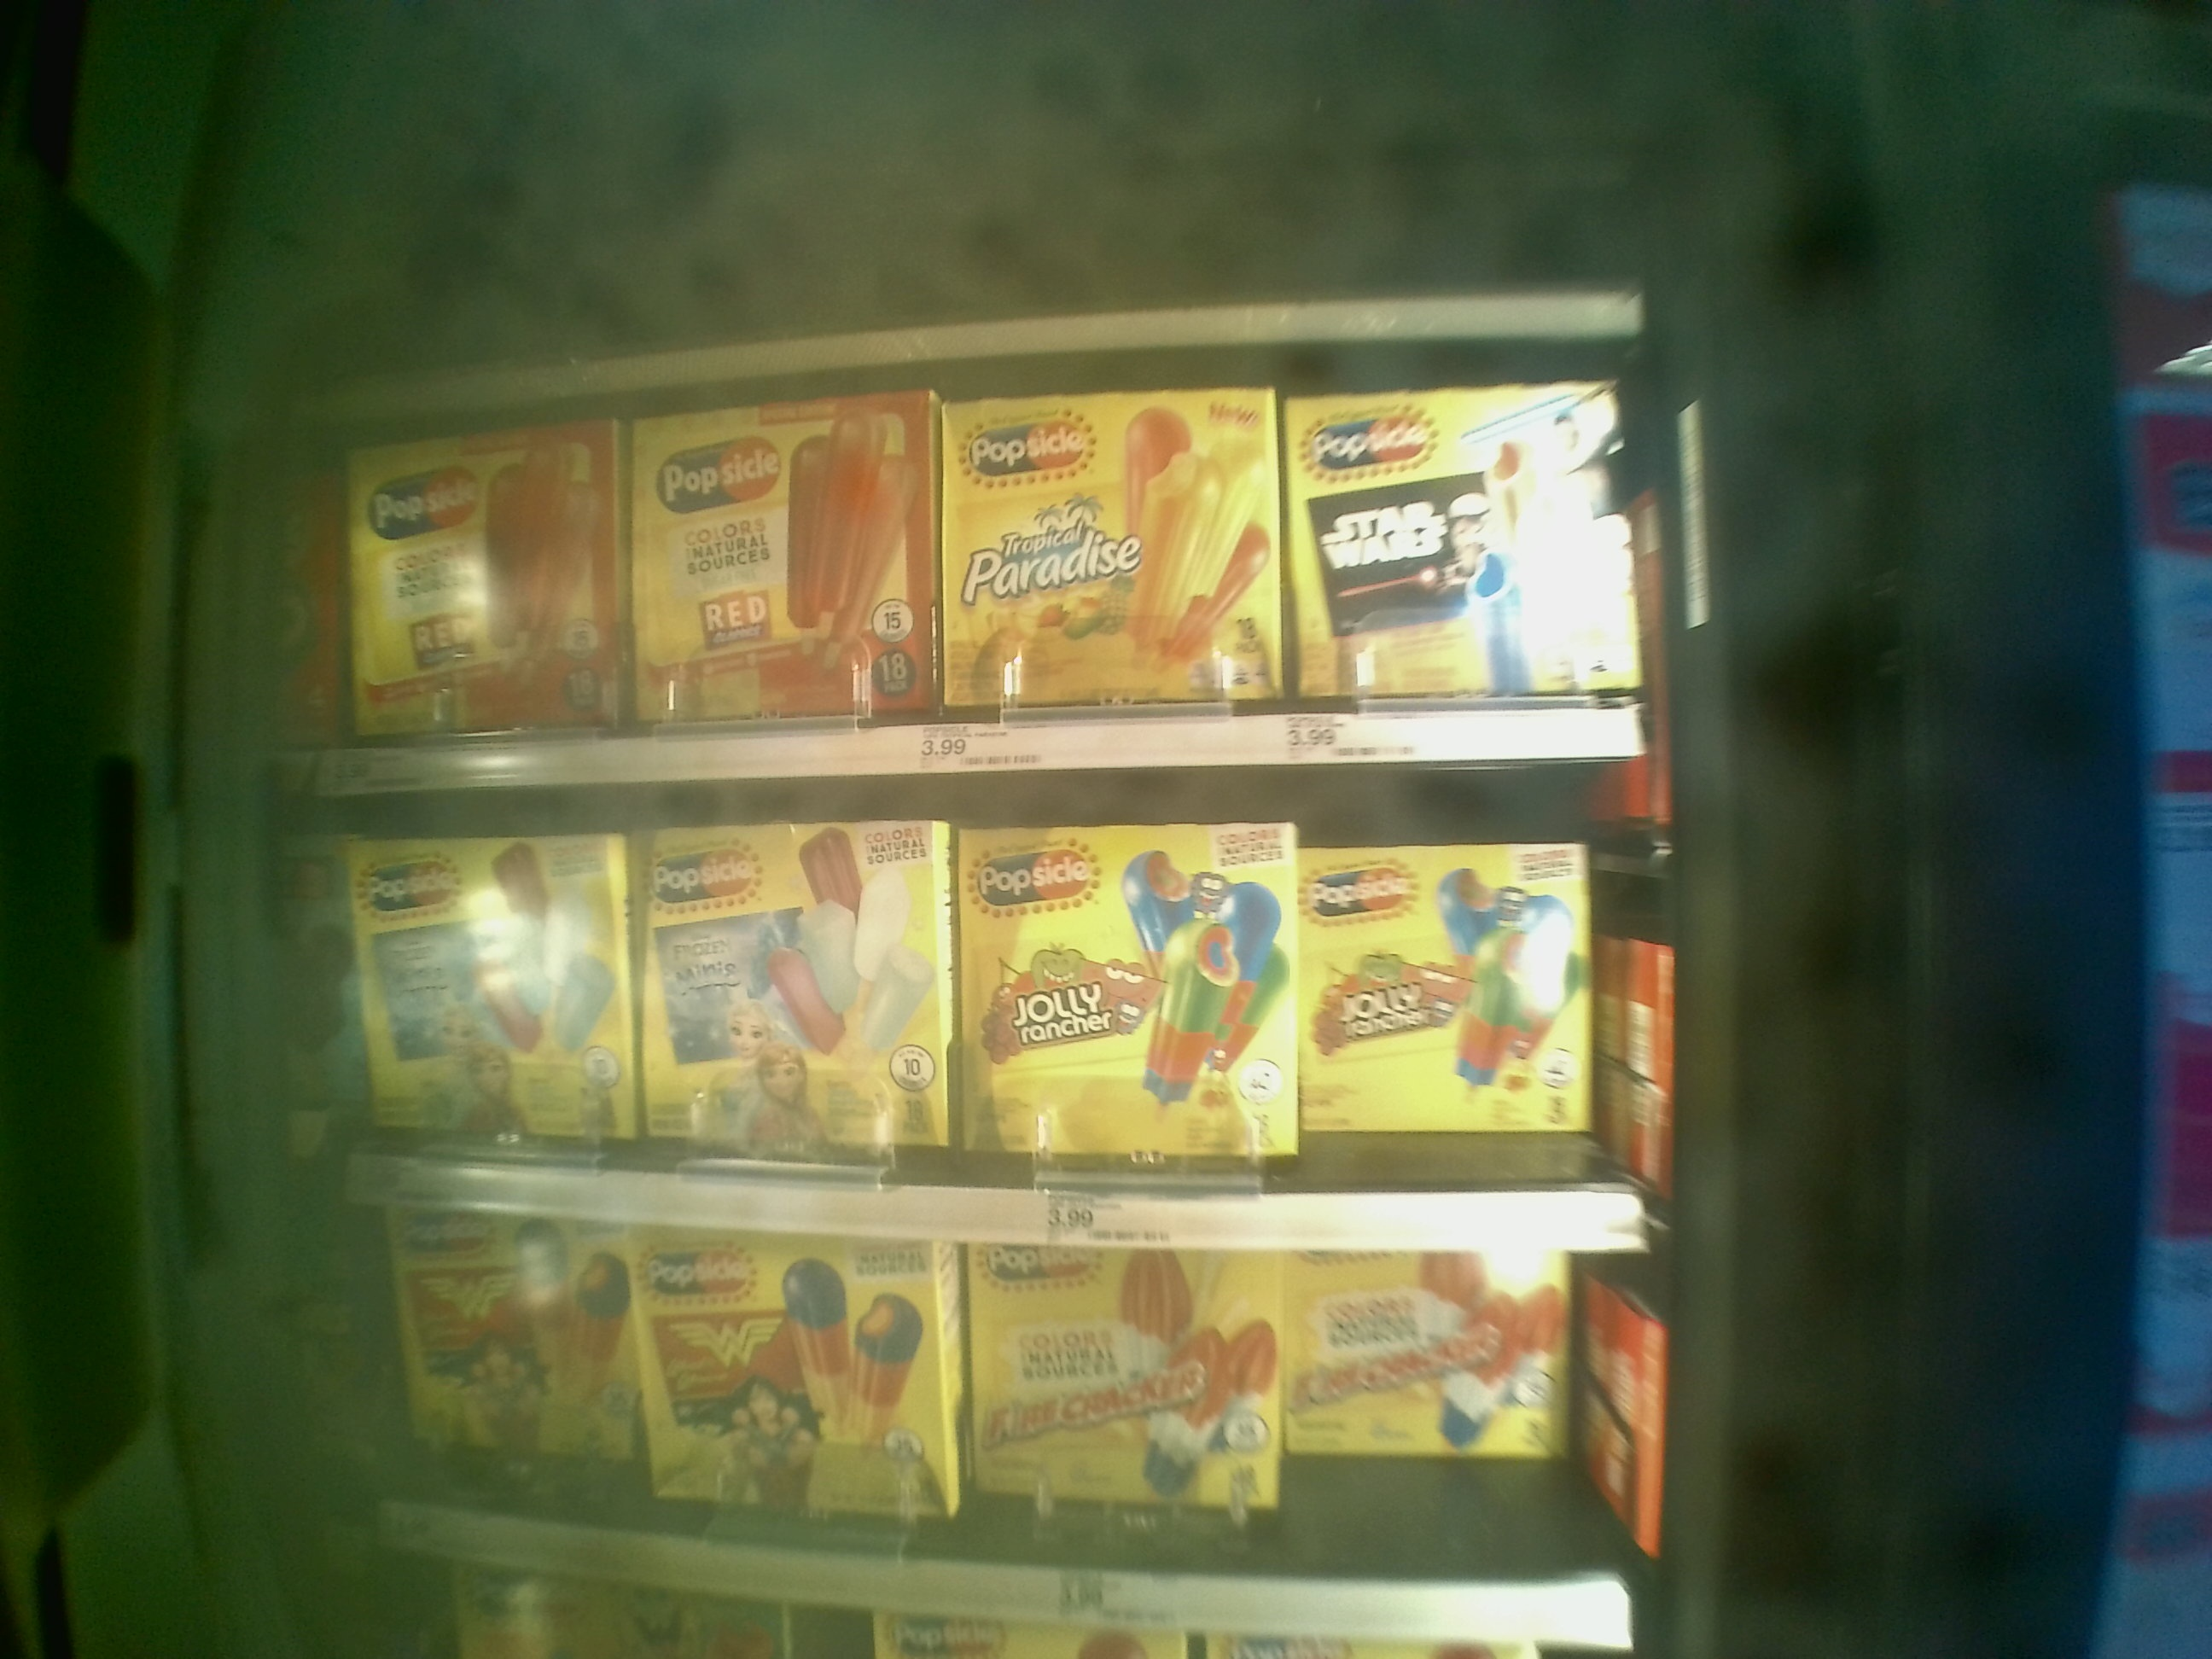shelf: (336, 756, 1644, 1220), (341, 329, 1651, 746)
